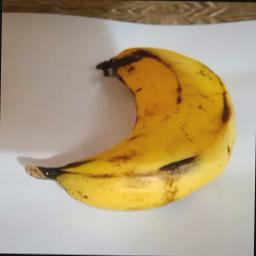Banana Unripe: (22, 43, 238, 214)
